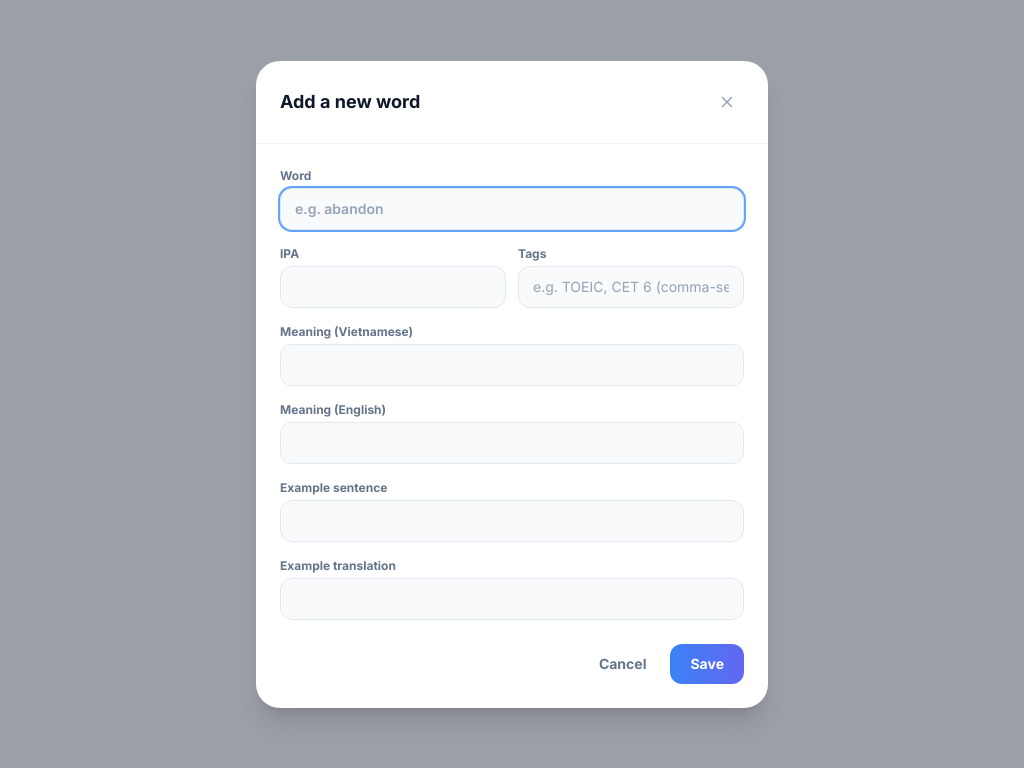
Test: AddPersonalWordModal — add mode › a 409 shows the "already exists" message rather than a generic failure
Type "abandon" into the field with placeholder "e.g. abandon". click: (512,208)
box: [280, 188, 744, 230]
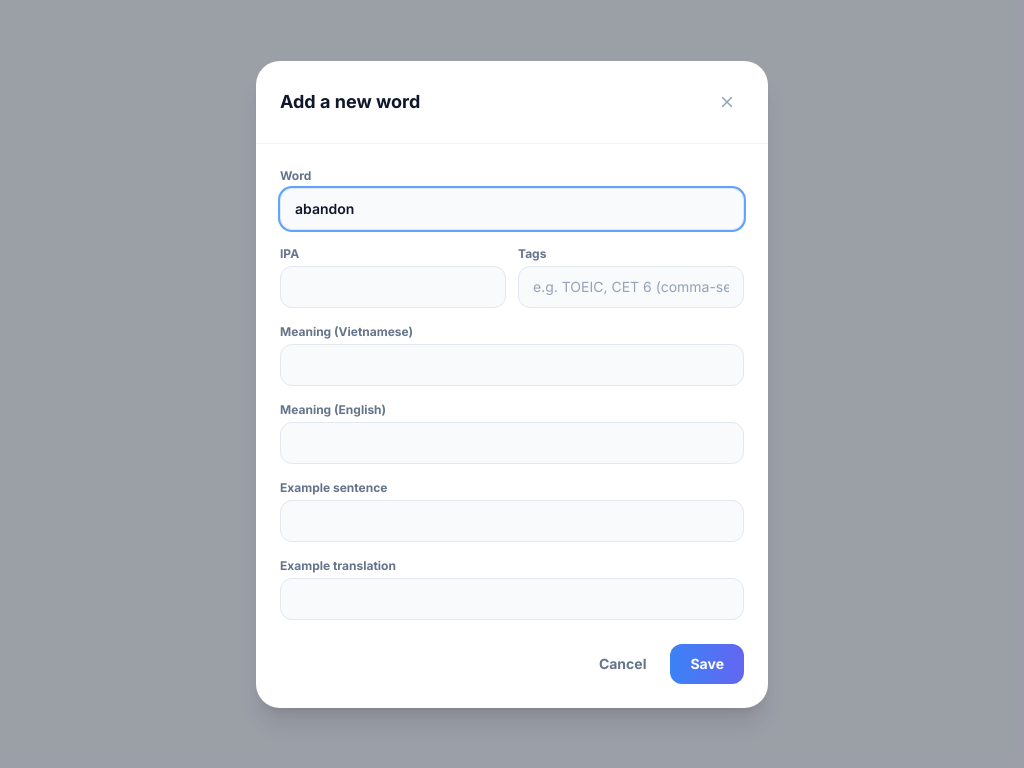
Type "từ bỏ" into the field labelled "Meaning (Vietnamese)". click: (512,364)
box: [280, 344, 744, 386]
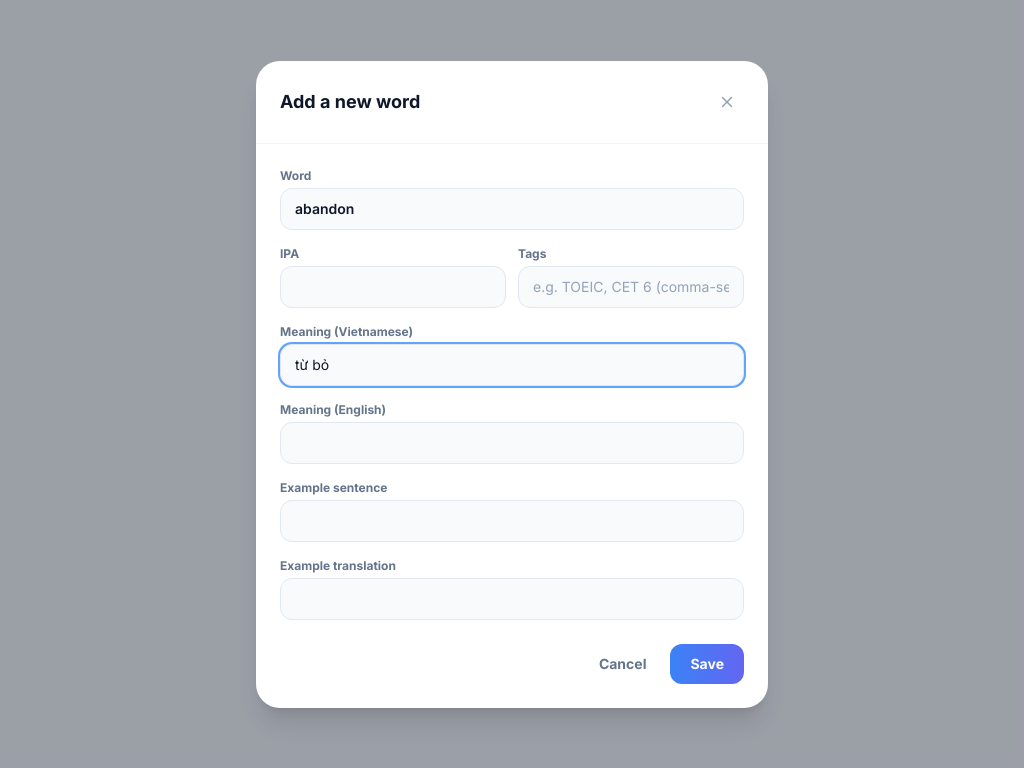
Click the button "Save". click: (707,664)
box: [670, 644, 744, 684]
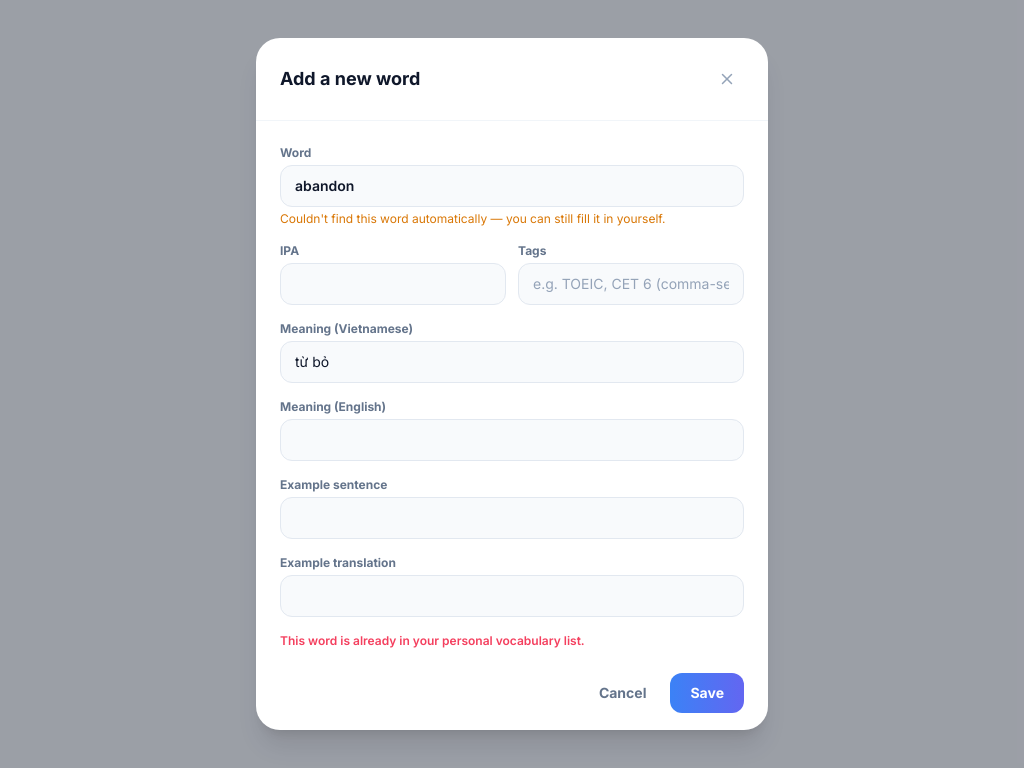
Expected: the text "This word is already in your personal vocabulary list." is shown, [280, 633, 585, 648]
